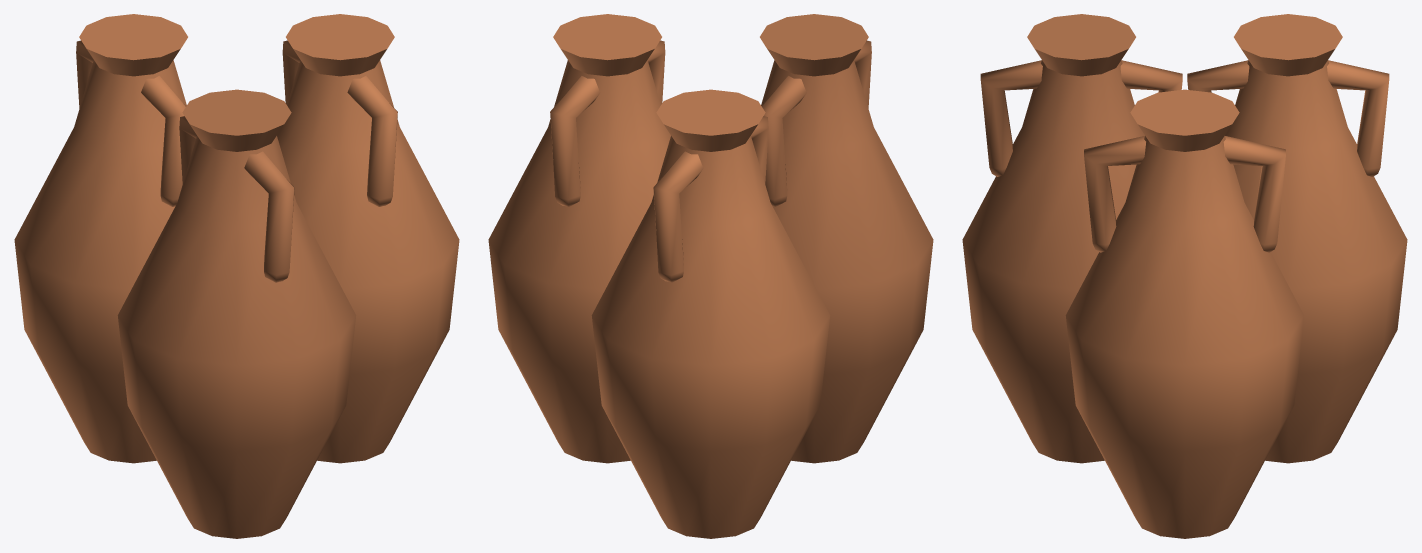
The model's file is amphorae_row.fbx.
3 views of the same model, side by side, from view 1: azimuth 30°, elevation 25°; view 2: azimuth 150°, elevation 25°; view 3: azimuth 270°, elevation 25° (orthographic).
Visible parts, largest first — view 1: amphorae_row; view 2: amphorae_row; view 3: amphorae_row.
Boxes of the visible parts, x1,y1,x2,y2 form: amphorae_row: [14, 14, 459, 538]; amphorae_row: [488, 14, 933, 538]; amphorae_row: [962, 14, 1407, 538].
Bounding box in the file's own units: 0.1411 × 0.1512 × 0.1505.
